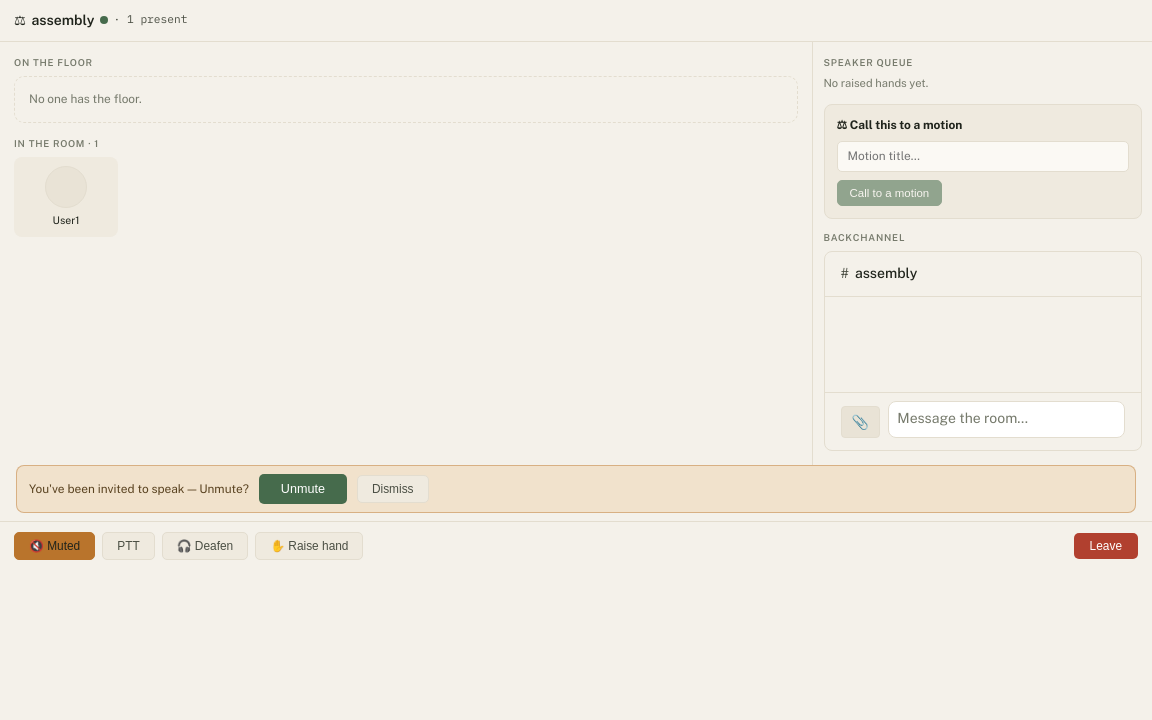
Test: TownHallView (ZEB-612 S5): invited banner › Dismiss lowers the hand without unmuting
Click the button with test id "th-invite-dismiss".
click(393, 489)  # box [357,475,428,503]
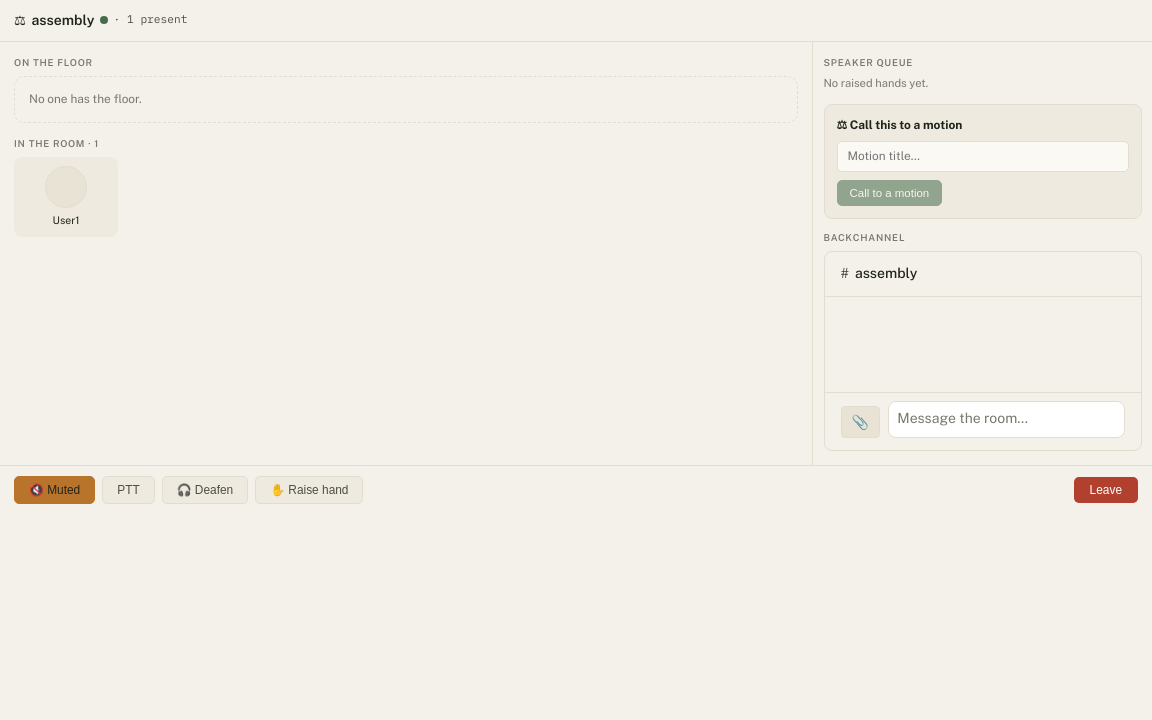
Expected: the message with test id "th-invited-banner" is gone
